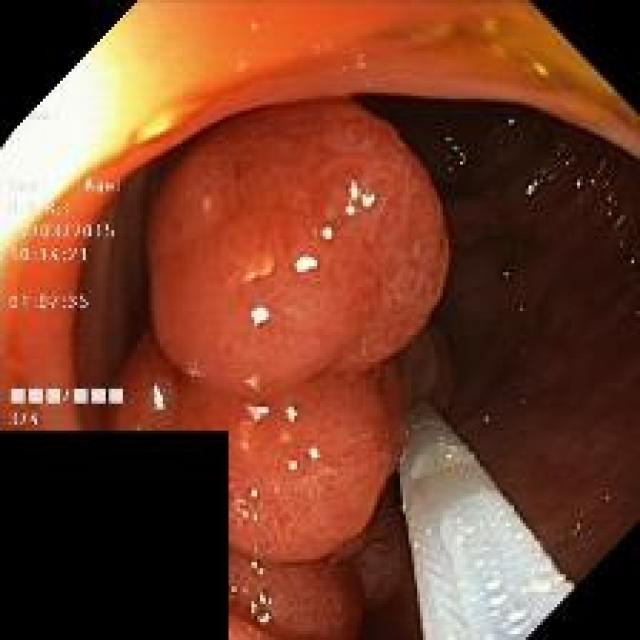Polyps: (112, 99, 448, 566)
